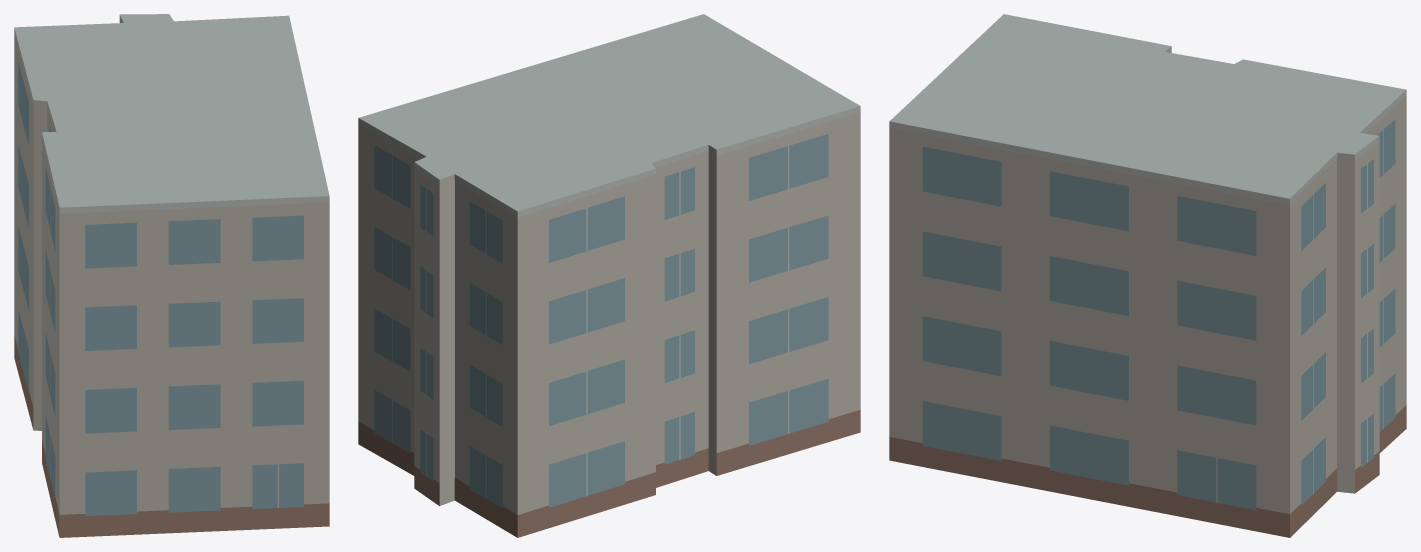
Rendered from survey-upis-32561069.glb.
3 renders of one model, left to right at view 1: azimuth 30°, elevation 25°; view 2: azimuth 150°, elevation 25°; view 3: azimuth 270°, elevation 25°, orthographic. The views are drawn at different scales.
Parts seen in each view (by area): view 1: survey-upis-32561069.tmp; view 2: survey-upis-32561069.tmp; view 3: survey-upis-32561069.tmp.
Part boxes in pixels (x1,y1,x2,y2): survey-upis-32561069.tmp: (14, 14, 329, 537); survey-upis-32561069.tmp: (358, 14, 860, 537); survey-upis-32561069.tmp: (889, 14, 1406, 537).
Bounding box in the file's own units: 15.28 × 13.06 × 18.06.
